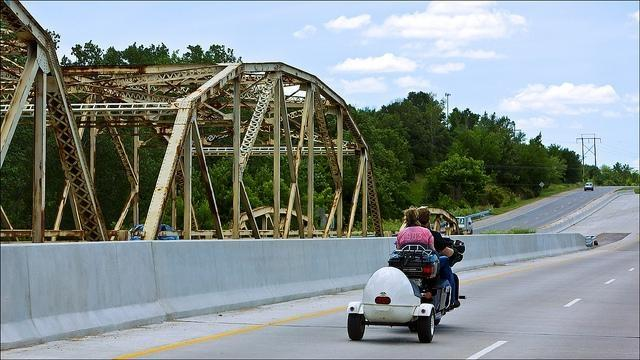car: (130, 224, 180, 241), (456, 216, 474, 234), (584, 182, 594, 192)
motorcycle: (347, 242, 452, 344)
